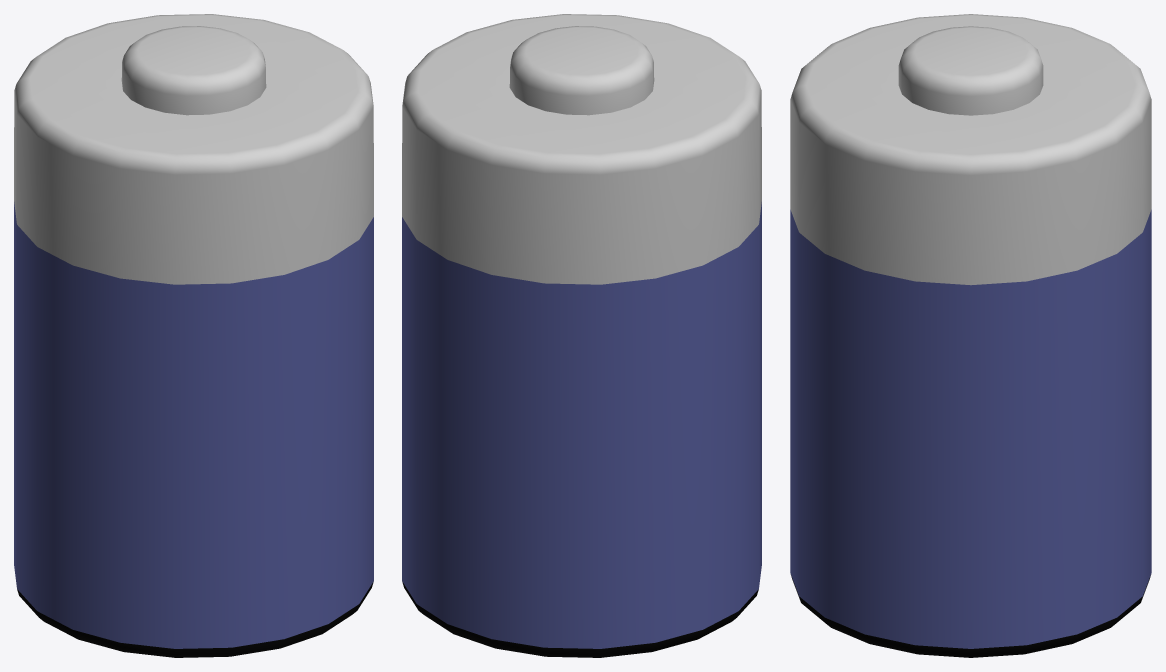
The model's file is Battery.fbx.
3 renders of one model, left to right at view 1: azimuth 30°, elevation 25°; view 2: azimuth 150°, elevation 25°; view 3: azimuth 270°, elevation 25°, orthographic.
Visible parts, largest first — view 1: Battery; view 2: Battery; view 3: Battery.
Part boxes in pixels (x1,y1,x2,y2): Battery: (14,14,373,657); Battery: (402,14,761,657); Battery: (790,14,1151,657).
Size of the model in its own units: 25.67 by 41.95 by 25.67.
